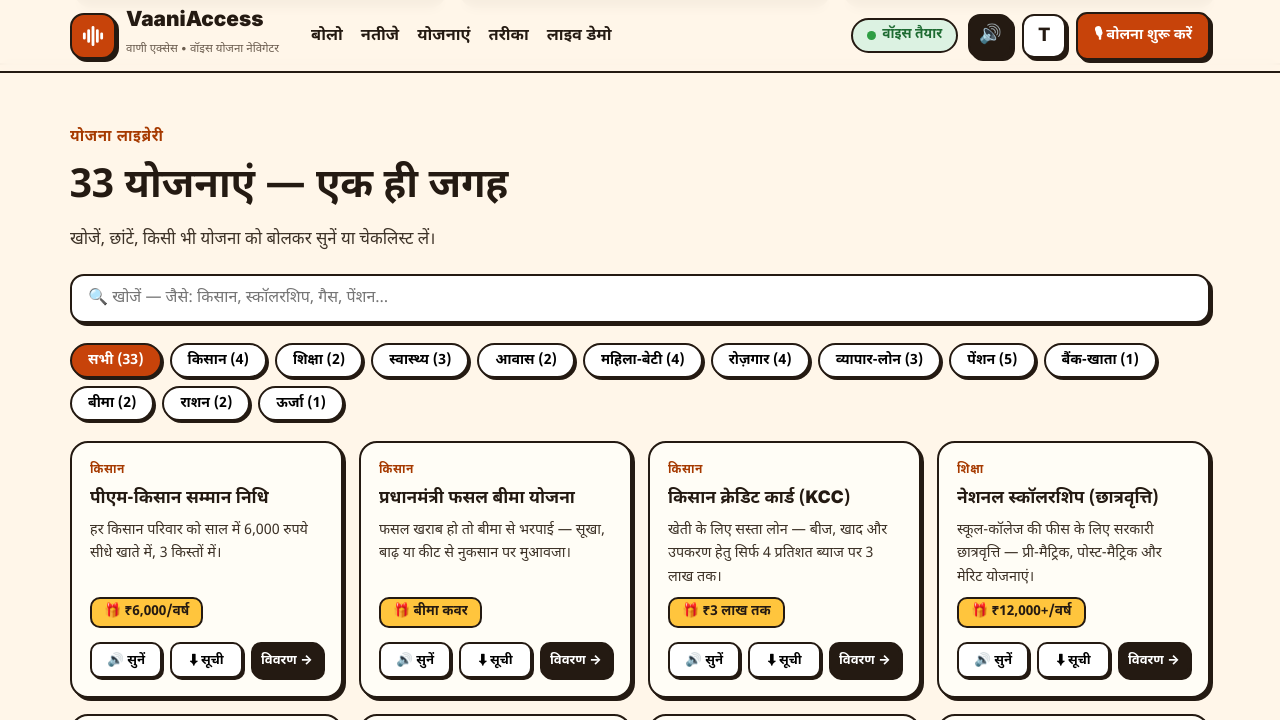
Test: App › filters schemes by category
(page scrolled)
Click the button "किसान (4)".
click(218, 360)  # box [170,343,267,378]
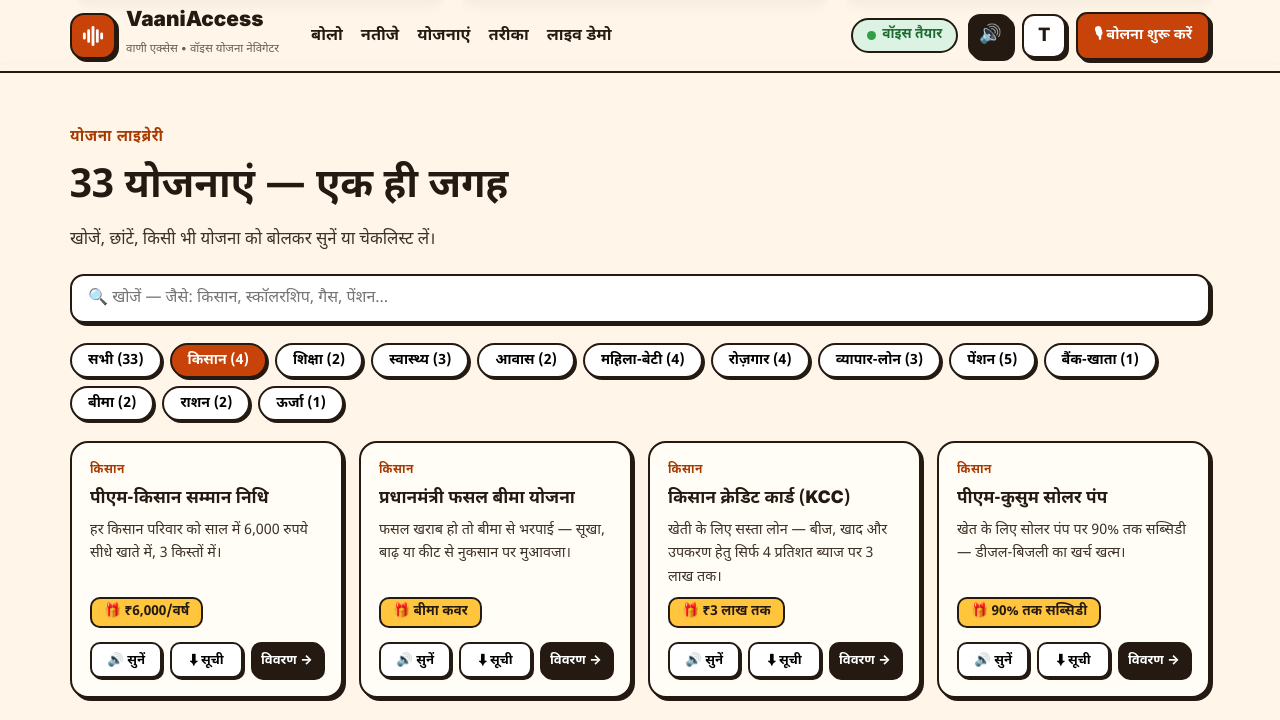
Expected: the number of buttons "विवरण →" is 4, [251,642,323,678]; [540,642,612,678]; [829,642,901,678]; [1118,642,1190,678]
